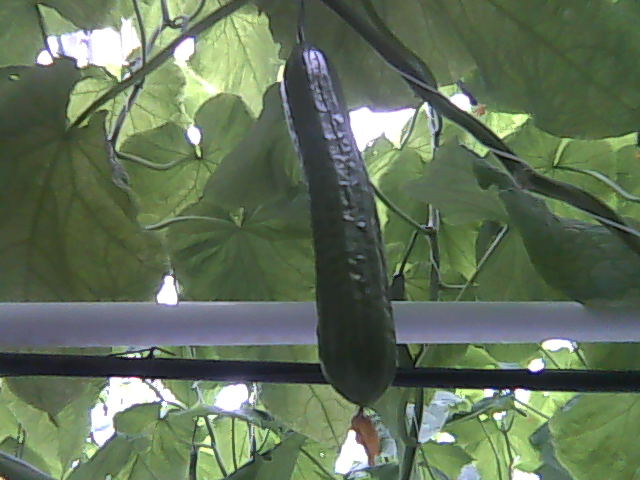concombre: (279, 33, 403, 470)
